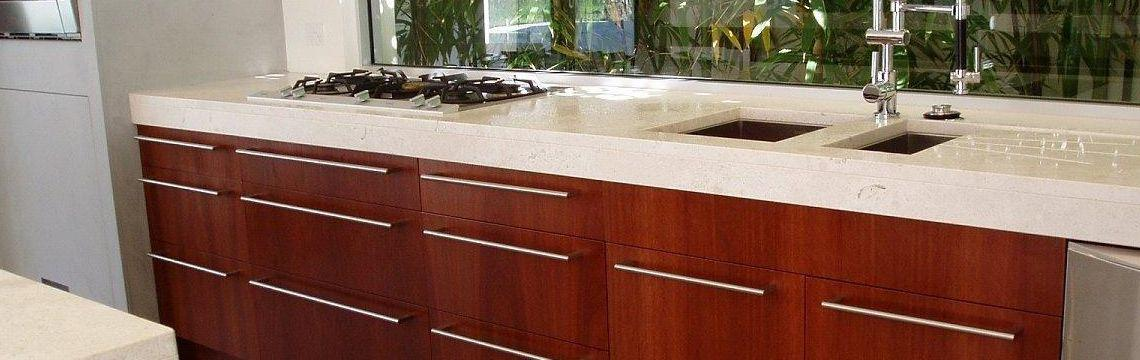cabinet_door: (612, 245, 809, 360), (406, 229, 614, 320), (251, 195, 418, 298), (823, 291, 1060, 360), (412, 168, 628, 225), (241, 292, 399, 358), (403, 313, 603, 360), (150, 258, 253, 345), (253, 144, 420, 196), (133, 182, 252, 253), (138, 132, 276, 176)
handle: (822, 299, 1022, 342), (248, 278, 406, 326), (608, 260, 765, 298), (235, 193, 391, 228), (419, 229, 571, 261), (426, 324, 556, 360), (238, 146, 388, 174), (419, 172, 573, 199), (144, 248, 224, 278), (140, 176, 220, 197), (132, 134, 216, 151)
